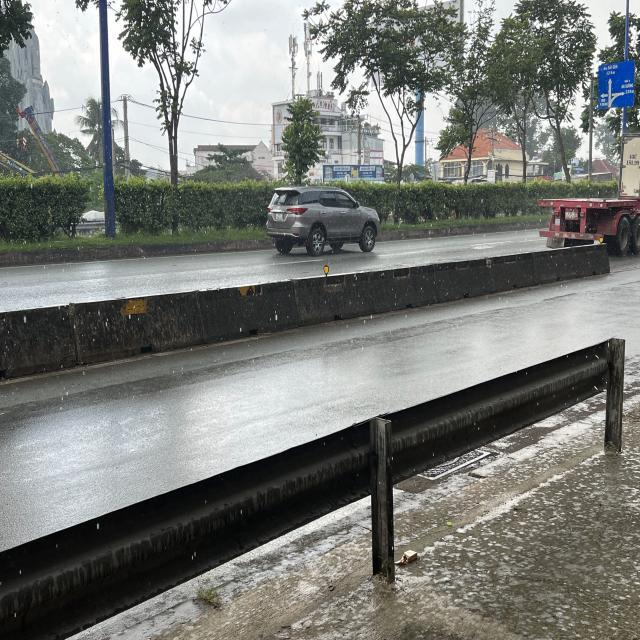car: (264, 188, 381, 258)
container: (541, 130, 640, 258)
